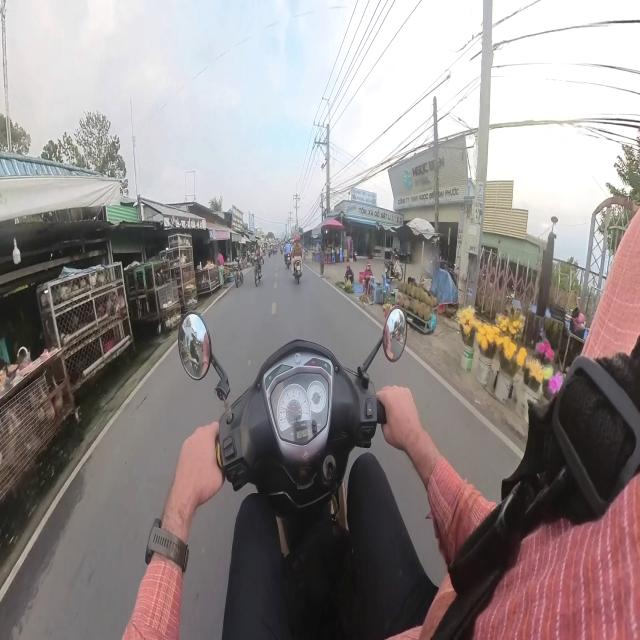motorcycle: (178, 307, 406, 637), (385, 252, 403, 281), (254, 259, 262, 286), (235, 261, 243, 287), (293, 261, 301, 283), (285, 253, 291, 269)
